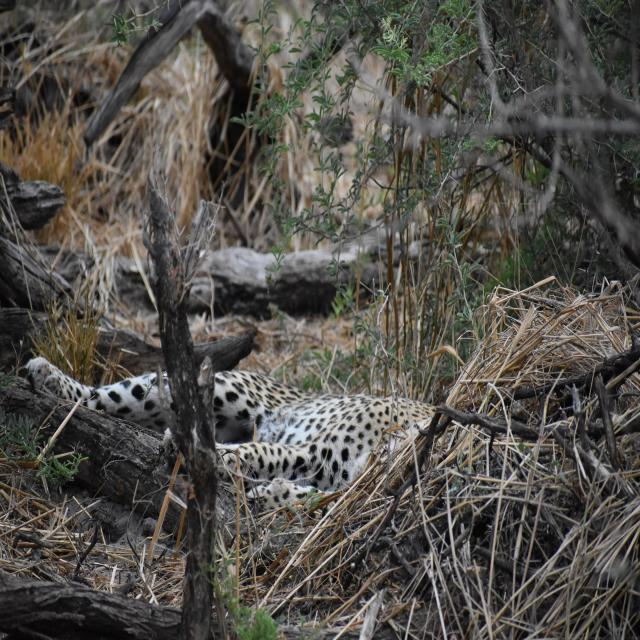Leopard: (22, 355, 436, 521)
